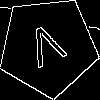V: (23, 21, 72, 77)
